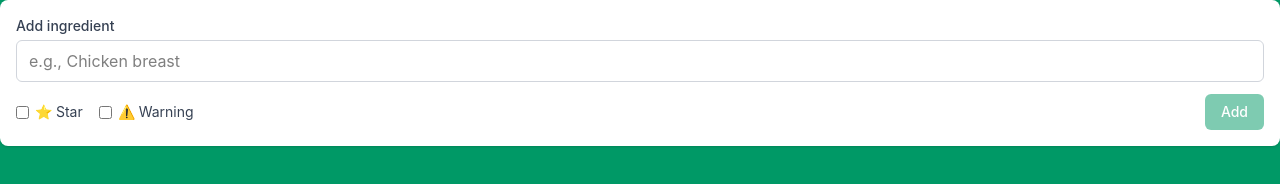
Test case: AddIngredientForm › shows duplicate warning when ingredient already exists
The image size is (1280, 184).
Type "Chicken" into the field labelled "Add ingredient" at (640, 61), box left=16, top=40, right=1264, bottom=82
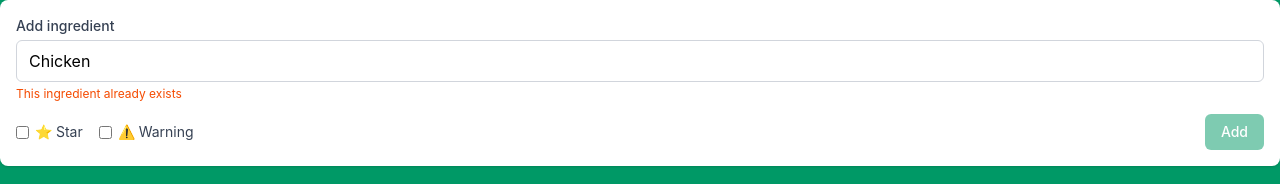
Expected: the text "This ingredient already exists" is shown, left=16, top=86, right=182, bottom=101
